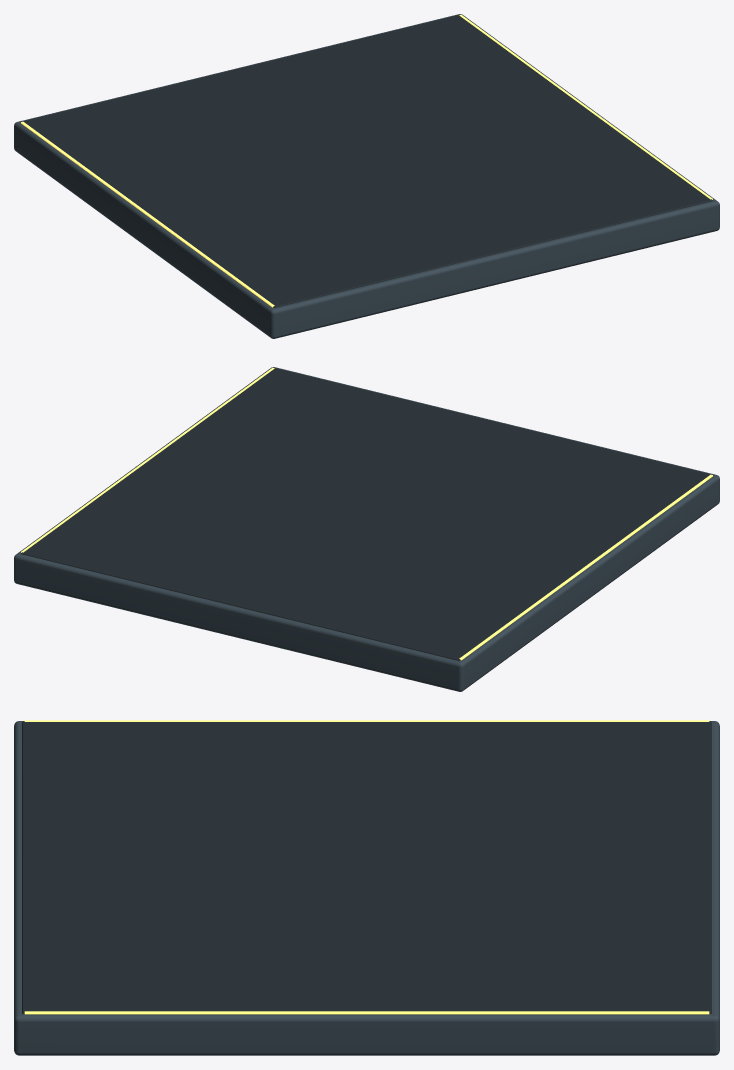
The model's file is canopy.glb.
3 views of the same model, one above another, from view 1: azimuth 30°, elevation 25°; view 2: azimuth 150°, elevation 25°; view 3: azimuth 270°, elevation 25° (orthographic). The views are drawn at different scales.
Parts seen in each view (by area): view 1: canopy; view 2: canopy; view 3: canopy.
Boxes of the visible parts, bbox=[...] form: canopy: bbox=[14, 14, 719, 338]; canopy: bbox=[14, 367, 719, 691]; canopy: bbox=[14, 720, 719, 1055].
Size of the model in its own units: 8 by 0.524 by 8.
